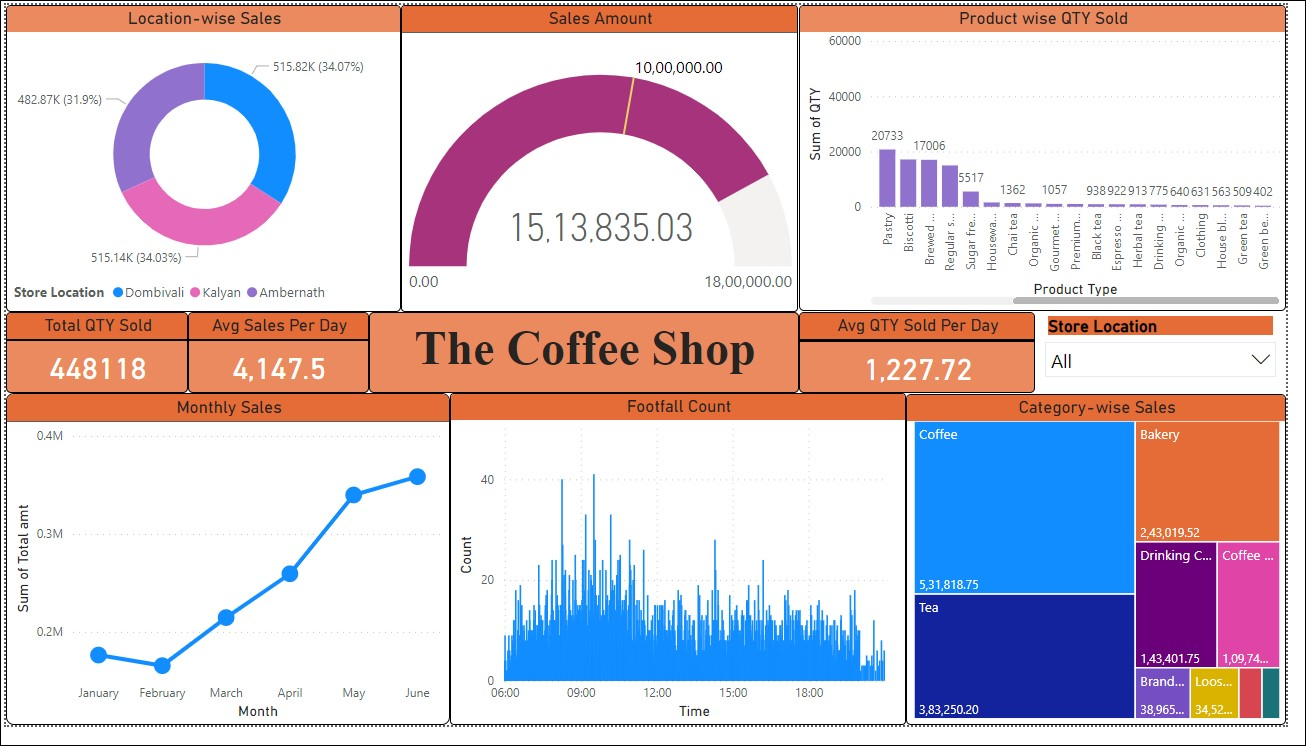

The page's visual inventory and layout, read from the dashboard file:
{"tool":"powerbi","page":{"name":"Sample Dashboard","canvas":[1280,720],"ordinal":0},"visuals":[{"type":"donutChart","title":"Location-wise Sales","fields":{"Y":["Sum(Database.Total amt)"],"Category":["Database.Store Location"]},"box":[0,0,394.5,307.3],"z":0},{"type":"lineChart","title":"Monthly Sales","fields":{"Y":["Sum(Database.Total amt)"],"Category":["Database.Transcation Date.Variation.Date Hierarchy.Month"]},"box":[0,388.2,443.6,331.8],"z":1000},{"type":"treemap","title":"Category-wise Sales","fields":{"Group":["Database.Product Category"],"Values":["Sum(Database.Total amt)"]},"box":[900,388.8,380,331.2],"z":2000},{"type":"columnChart","title":"Product wise QTY Sold","fields":{"Y":["Sum(Database.QTY)"],"Category":["Database.Product Type"]},"box":[792.5,0,487.5,306.2],"z":3000},{"type":"card","title":"Total QTY Sold","fields":{"Values":["Sum(Database.QTY)"]},"box":[0,306.8,182.1,80.7],"z":4000},{"type":"textbox","box":[362.7,307.2,429.9,80.6],"z":6000},{"type":"card","title":"Avg Sales Per Day","fields":{"Values":["Database.Average Sales Per Day"]},"box":[182.1,306.8,180.9,80.7],"z":7000},{"type":"card","title":"Avg QTY Sold Per Day","fields":{"Values":["Database.Avg QTY Sold Per day"]},"box":[792.5,307.2,236.4,80.6],"z":8000},{"type":"clusteredColumnChart","title":"Footfall Count","fields":{"Category":["Database.Transaction Time"],"Y":["CountNonNull(Database.Transaction Time)"]},"box":[443.6,388.2,456.4,331.8],"z":10000},{"type":"gauge","title":"Sales Amount","fields":{"Y":["Sum(Database.Total amt)"]},"box":[394.5,0,397.3,307.3],"z":10001},{"type":"slicer","fields":{"Values":["Database.Store Location"]},"box":[1029.1,306.4,250.9,81.8],"z":10002}]}

Visuals, with their boxes in screenshot pixels (x1, y1, x2, y2), scaled from the page's 1280x720 canvas onto the 1306x746 screenshot:
"Location-wise Sales" donutChart: (0,0,403,318)
"Monthly Sales" lineChart: (0,402,453,745)
"Category-wise Sales" treemap: (918,403,1305,745)
"Product wise QTY Sold" columnChart: (809,0,1305,317)
"Total QTY Sold" card: (0,318,186,401)
textbox: (370,318,809,402)
"Avg Sales Per Day" card: (186,318,370,401)
"Avg QTY Sold Per Day" card: (809,318,1050,402)
"Footfall Count" clusteredColumnChart: (453,402,918,745)
"Sales Amount" gauge: (403,0,808,318)
slicer - Database.Store Location: (1050,317,1305,402)
